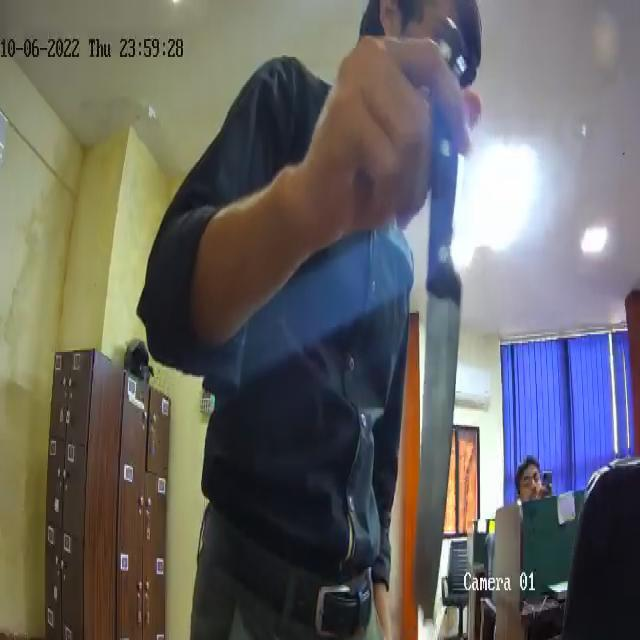Knife: (409, 16, 476, 633)
